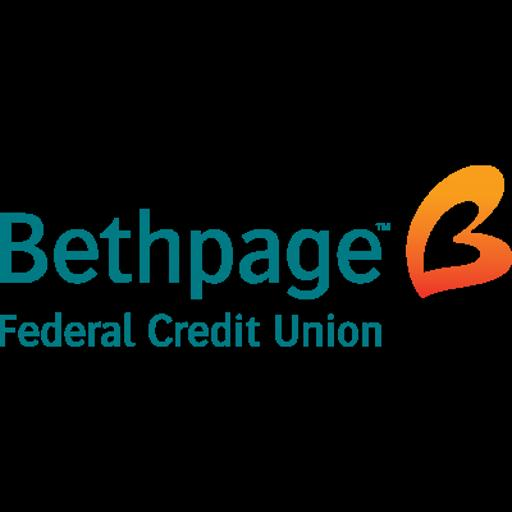Bethpage Federal Credit Union: (0, 90, 512, 422)
